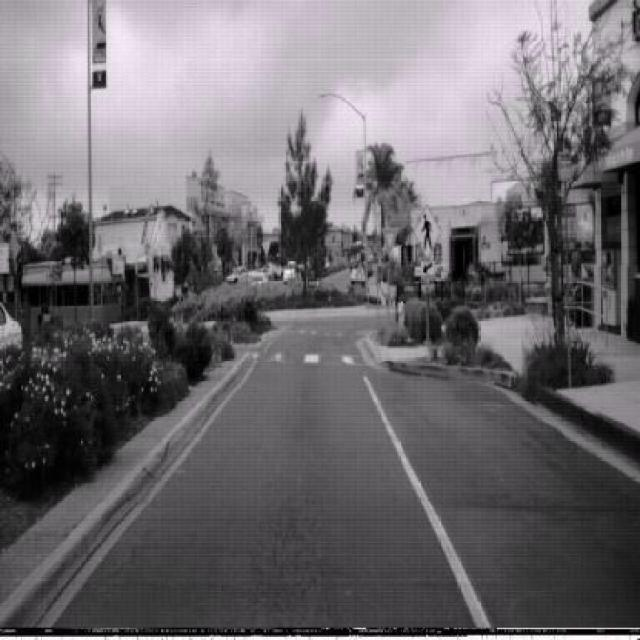pedestrianCrossing: (414, 202, 442, 261)
yield: (381, 226, 399, 257)
